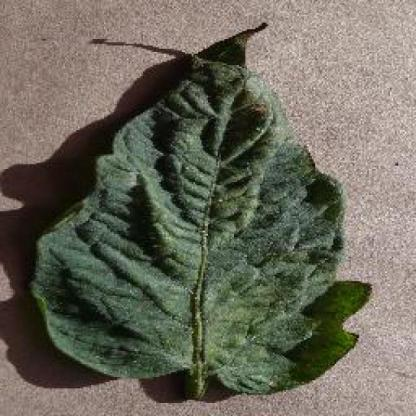Tomato_Spider_Mites: (36, 23, 369, 393)
